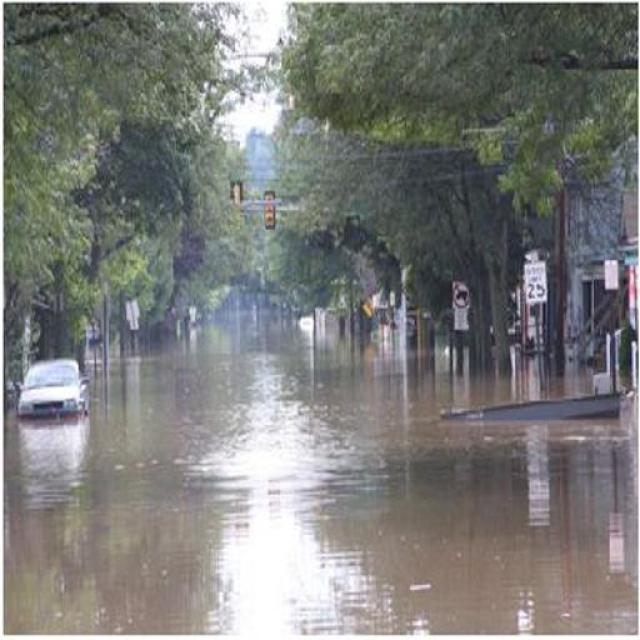puddle: (12, 441, 640, 640), (103, 357, 482, 446)
